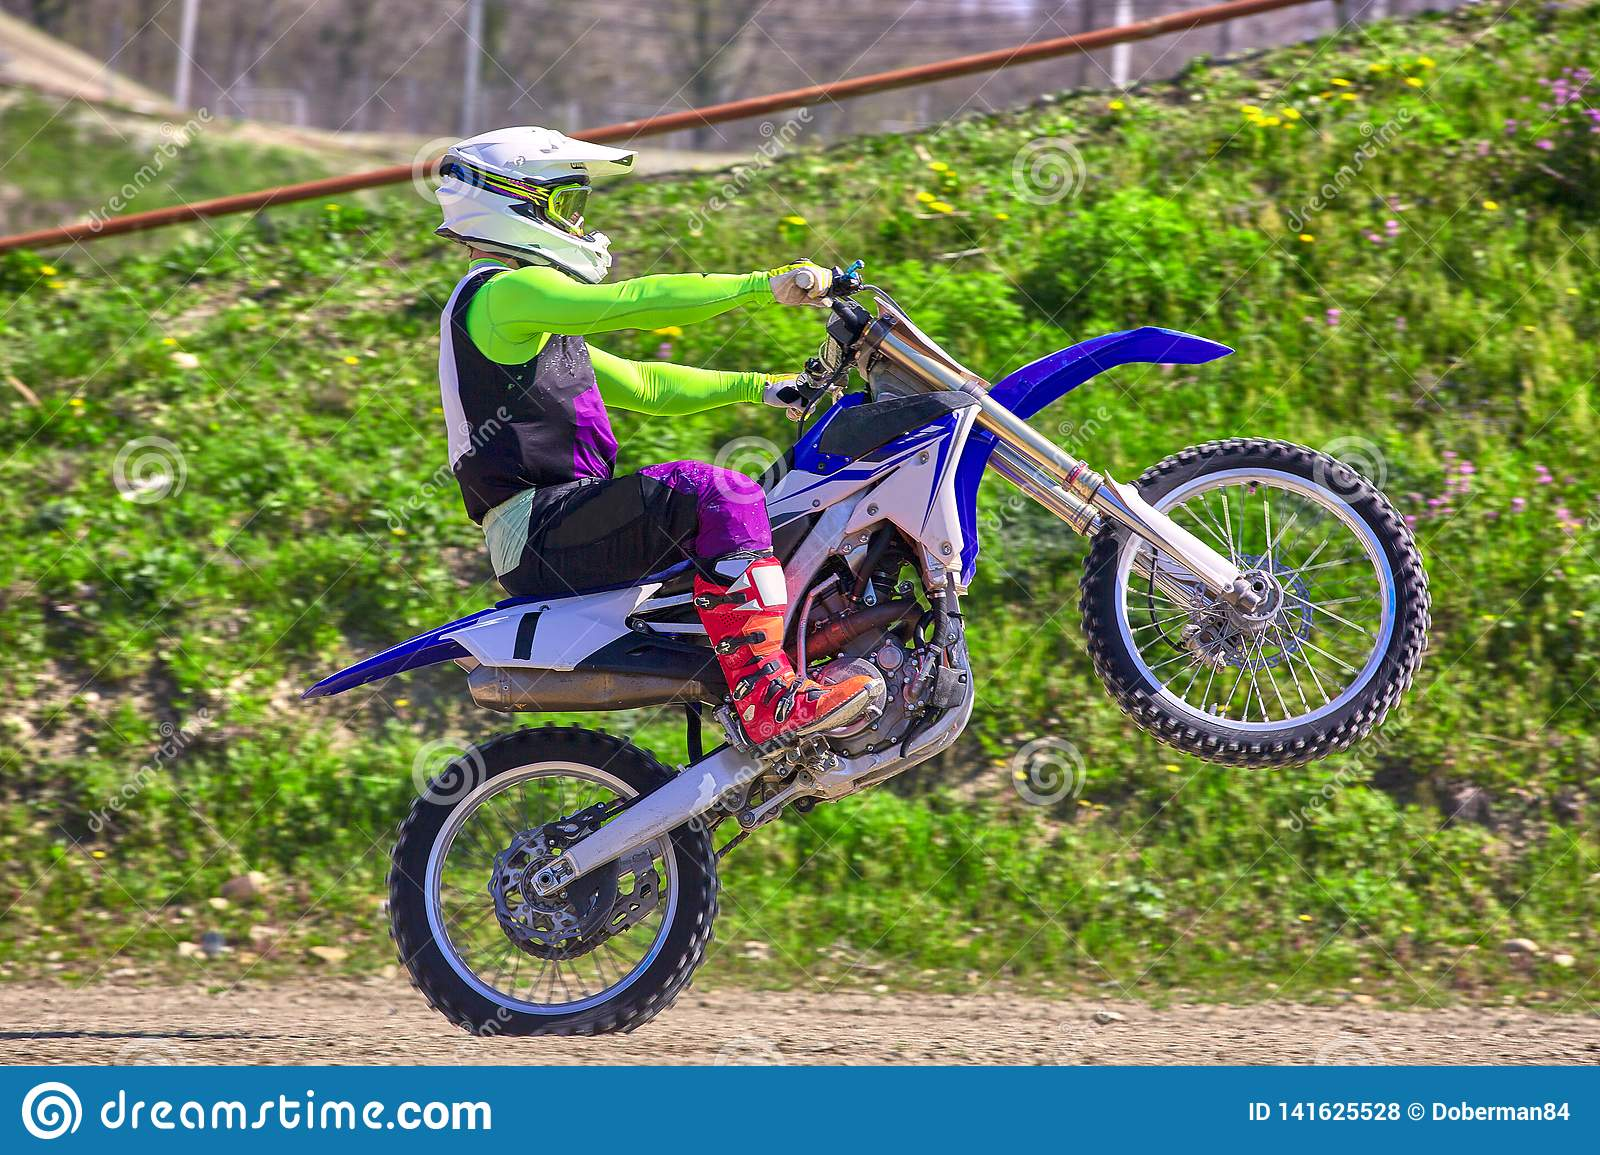helmet: (401, 122, 639, 296)
